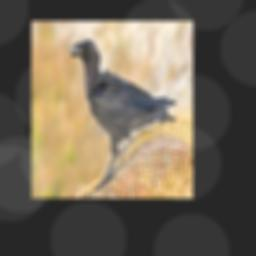Crow: (68, 39, 177, 191)
